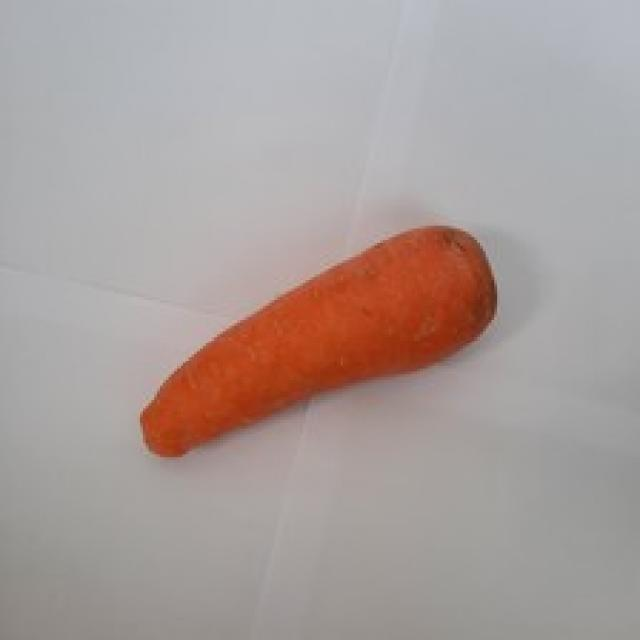carrot: (140, 217, 504, 459)
